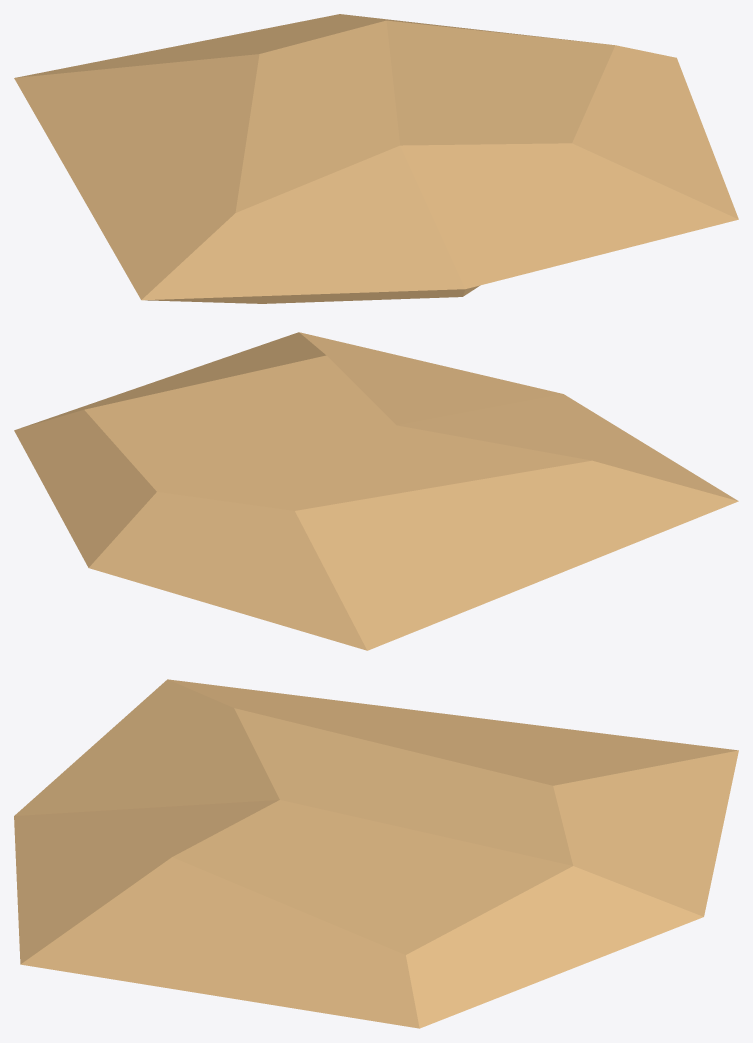
File: Stone_04_Var_05.fbx
3 views of the same model, one above another, from view 1: azimuth 30°, elevation 25°; view 2: azimuth 150°, elevation 25°; view 3: azimuth 270°, elevation 25° (orthographic). The views are drawn at different scales.
Visible parts, largest first — view 1: Stone_04_Var_05; view 2: Stone_04_Var_05; view 3: Stone_04_Var_05.
Part boxes in pixels (x1=…): Stone_04_Var_05: x1=14, y1=14, x2=738, y2=303; Stone_04_Var_05: x1=14, y1=332, x2=738, y2=650; Stone_04_Var_05: x1=14, y1=679, x2=738, y2=1028.
Bounding box in the file's own units: 4.56 × 0.8025 × 5.2.
